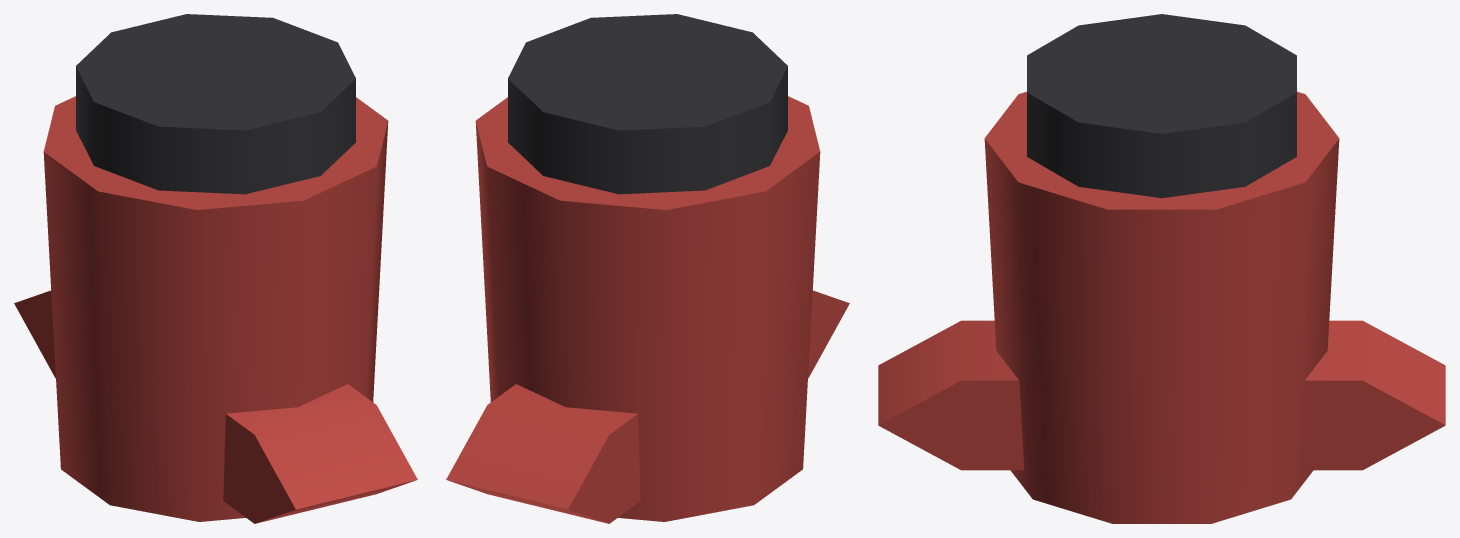
File: rear_master_lod1.glb
The picture shows the model from 3 angles, left to right: view 1: azimuth 30°, elevation 25°; view 2: azimuth 150°, elevation 25°; view 3: azimuth 270°, elevation 25°; orthographic projection.
Parts seen in each view (by area): view 1: rear_master_lod1; view 2: rear_master_lod1; view 3: rear_master_lod1.
Part boxes in pixels (box(x1,y1,x2,y2)): rear_master_lod1: box(14, 14, 417, 523); rear_master_lod1: box(446, 14, 849, 523); rear_master_lod1: box(878, 14, 1445, 523).
Size of the model in its own units: 0.038 by 0.048 by 0.064.
